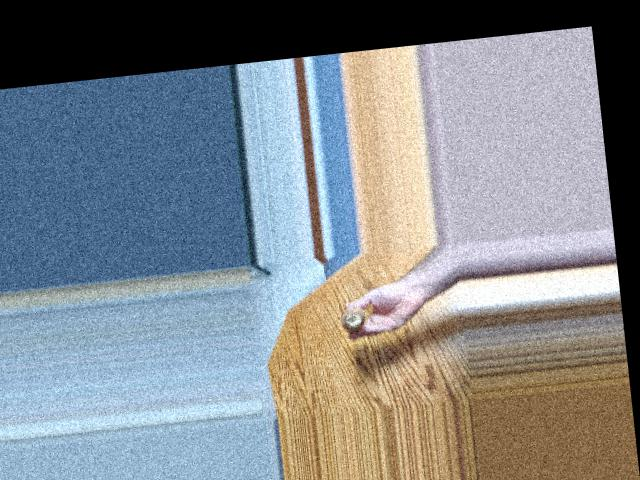sweet_potato: (333, 303, 366, 330)
